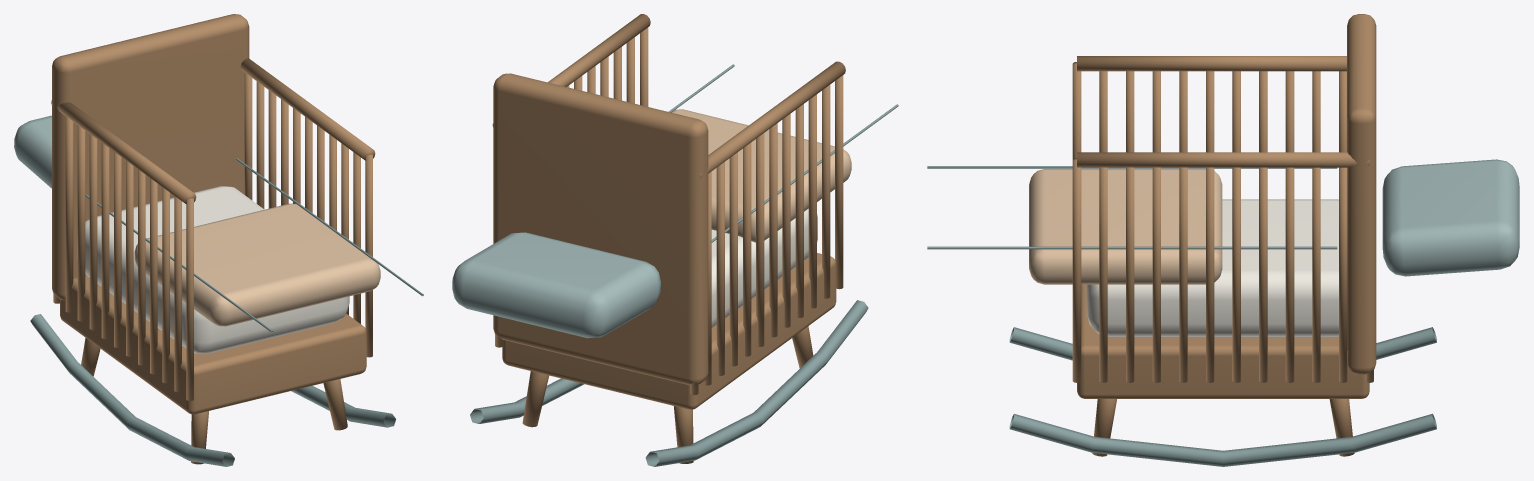
File: atelier-bassinet.glb
The picture shows the model from 3 angles, left to right: view 1: azimuth 30°, elevation 25°; view 2: azimuth 150°, elevation 25°; view 3: azimuth 270°, elevation 25°; orthographic projection. The views are drawn at different scales.
Visible parts, largest first — view 1: legs.032, bedding.009, ceramic.009, seams.034, fabric.035; view 2: legs.032, fabric.035, seams.034, bedding.009, ceramic.009; view 3: legs.032, ceramic.009, bedding.009, fabric.035, seams.034.
Boxes of the visible parts, <box> form: legs.032: <box>51,14,375,464</box>; bedding.009: <box>134,203,380,326</box>; ceramic.009: <box>77,186,349,354</box>; seams.034: <box>30,158,423,466</box>; fabric.035: <box>14,115,51,188</box>; legs.032: <box>492,14,845,463</box>; fabric.035: <box>452,232,660,338</box>; seams.034: <box>470,64,898,466</box>; bedding.009: <box>672,109,851,242</box>; ceramic.009: <box>711,208,817,327</box>; legs.032: <box>1072,14,1376,456</box>; ceramic.009: <box>1086,199,1338,336</box>; bedding.009: <box>1029,169,1222,284</box>; fabric.035: <box>1382,159,1519,276</box>; seams.034: <box>927,166,1436,466</box>.
Bounding box in the file's own units: 0.75 × 1.22 × 1.82.
